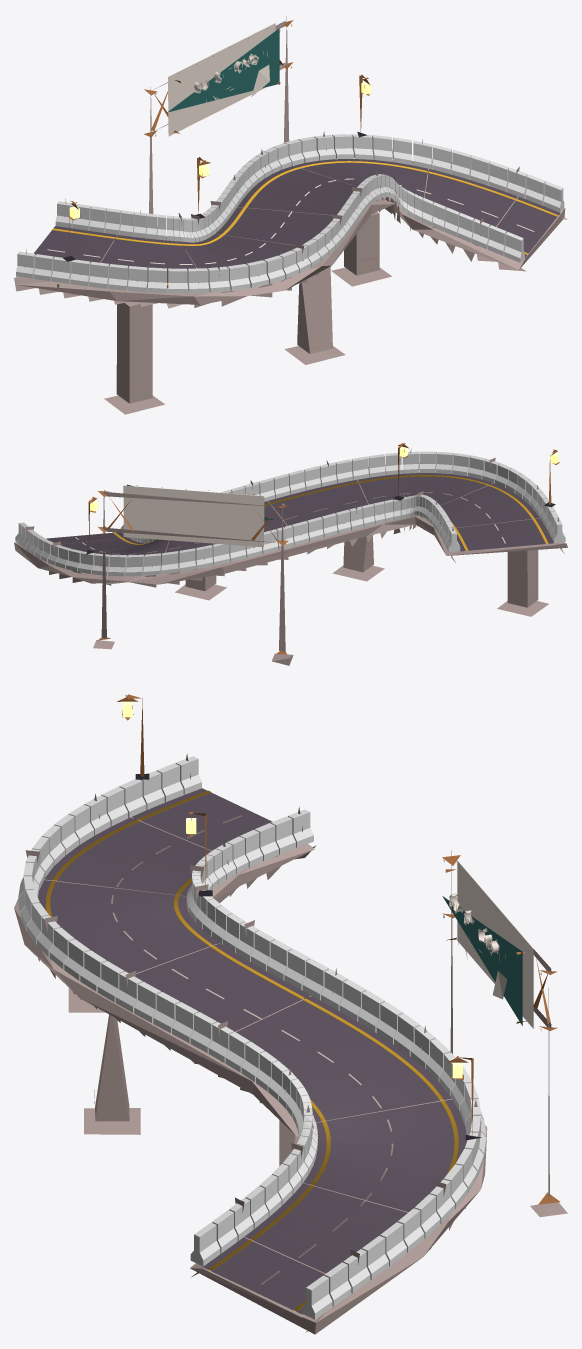
The model's file is kit.highway-onramp.lod2.glb.
3 views of the same model, one above another, from view 1: azimuth 30°, elevation 25°; view 2: azimuth 150°, elevation 25°; view 3: azimuth 270°, elevation 25° (orthographic). The views are drawn at different scales.
Size of the model in its own units: 28.4 by 9.43 by 16.98.
